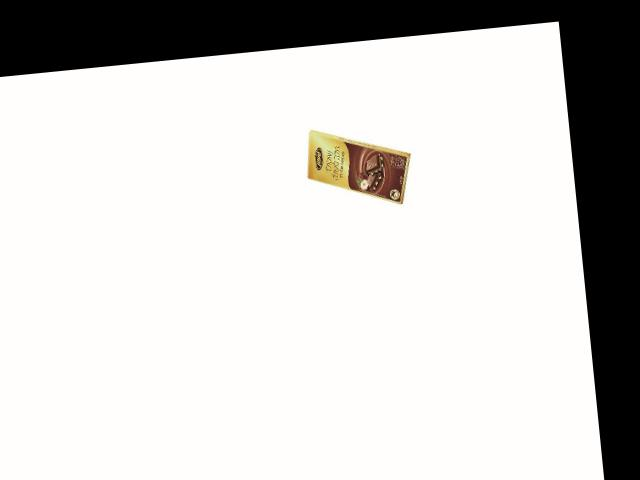chocolate: (302, 116, 425, 213)
